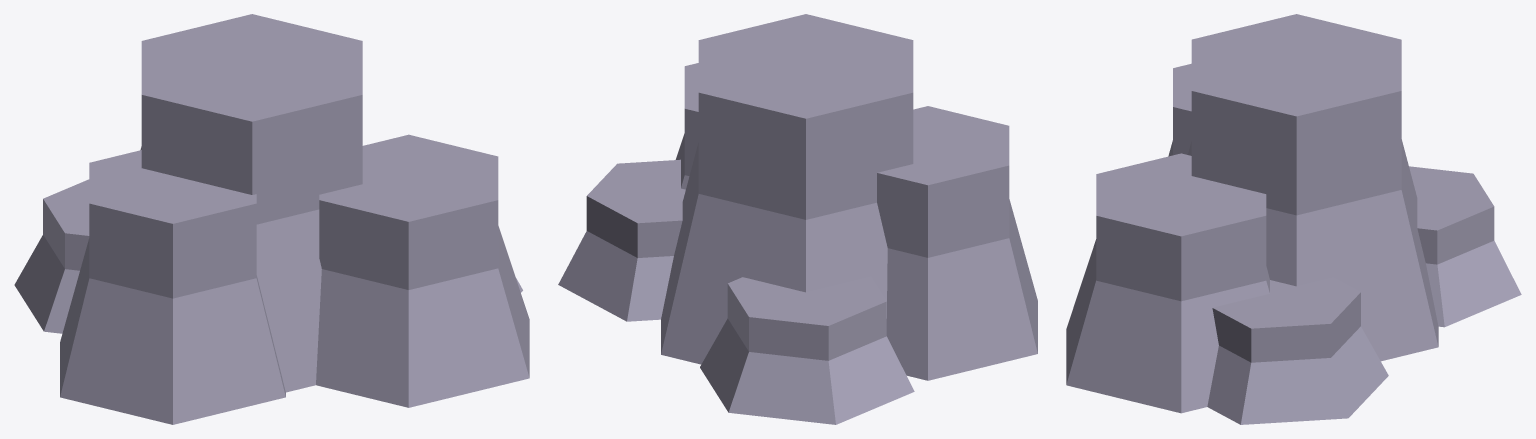
Rendered from rock_largeA.glb.
The picture shows the model from 3 angles, left to right: view 1: azimuth 30°, elevation 25°; view 2: azimuth 150°, elevation 25°; view 3: azimuth 270°, elevation 25°; orthographic projection. The views are drawn at different scales.
Visible parts, largest first — view 1: rock_largeA; view 2: rock_largeA; view 3: rock_largeA.
Boxes of the visible parts, x1,y1,x2,y2 form: rock_largeA: [14, 14, 529, 424]; rock_largeA: [558, 14, 1037, 424]; rock_largeA: [1066, 14, 1521, 424].
Bounding box in the file's own units: 0.9193 × 0.5 × 0.8339.
